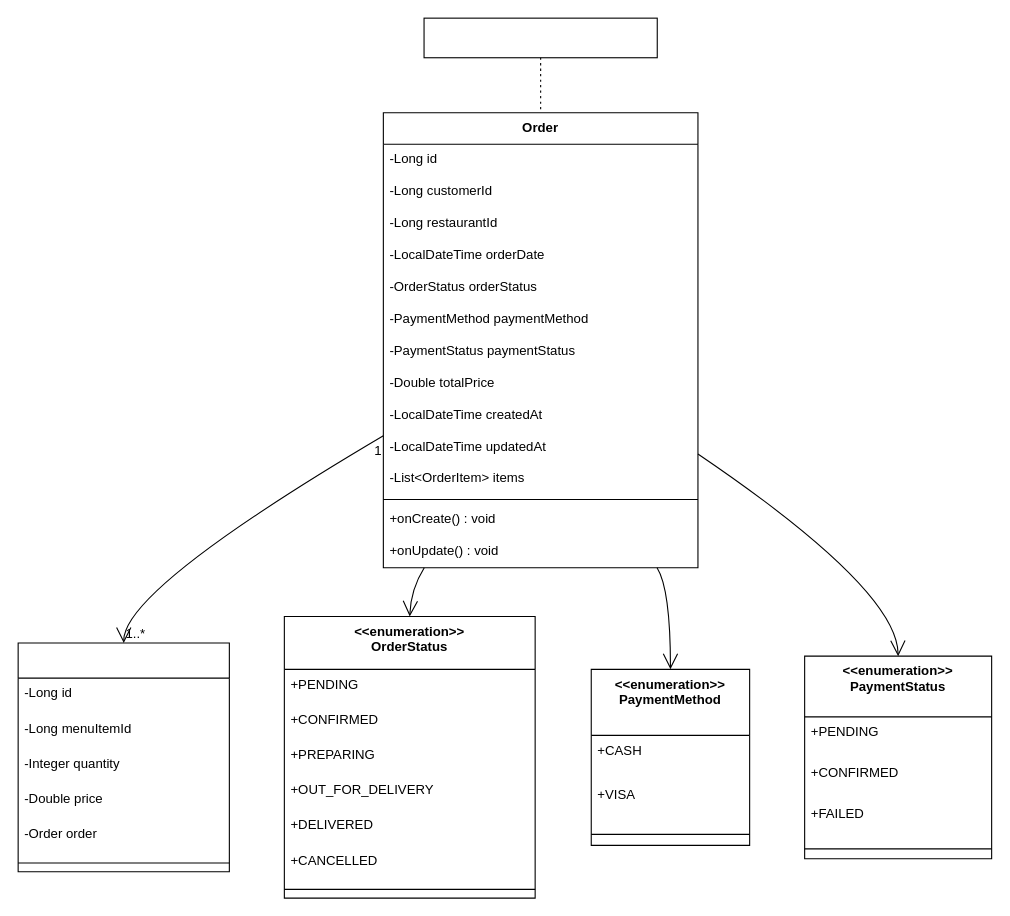
Image size: 1010x916. Some labels were removed from this diagram. The shapes that lost their labels are listed below. From the top down, each one's box as (x1, y1, x2, y2) in pixels, then its label:
(423, 17, 657, 58): OCL: context Order inv OrderMustHaveAtLeastOneItem: self.items->size() >= 1
(17, 642, 229, 872): OrderItem
